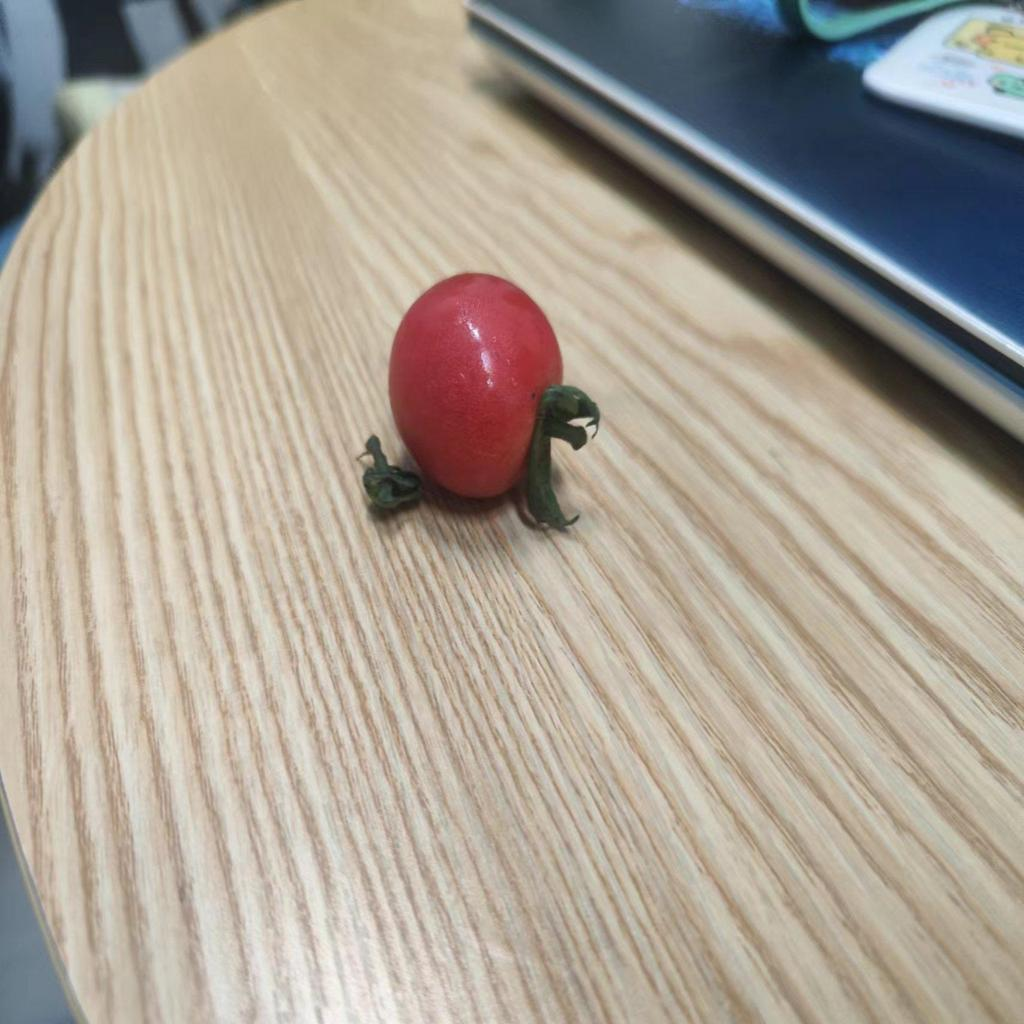tomato: (378, 277, 578, 513)
